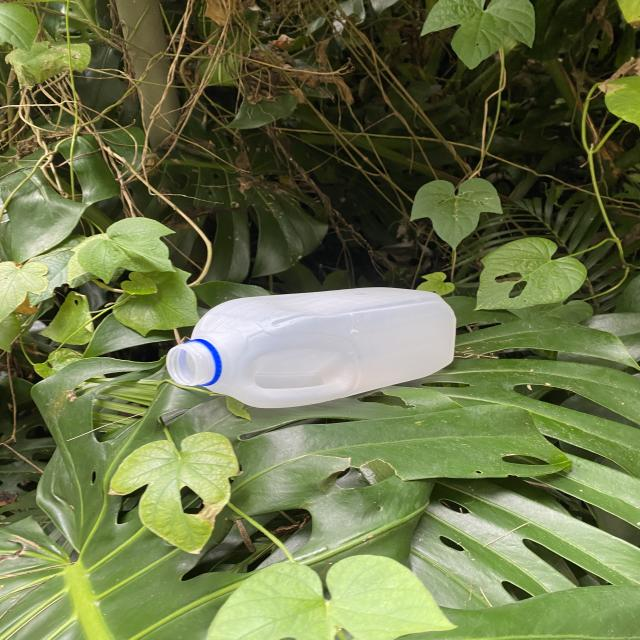bottle: (167, 287, 455, 408)
